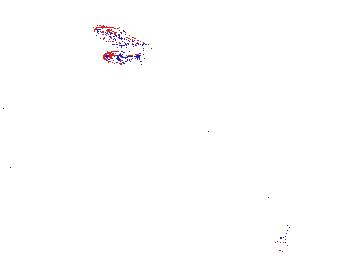X-ray fish: (81, 95, 127, 123)
red belly glassfish: (92, 23, 152, 52), (272, 222, 292, 253), (103, 50, 143, 65)
